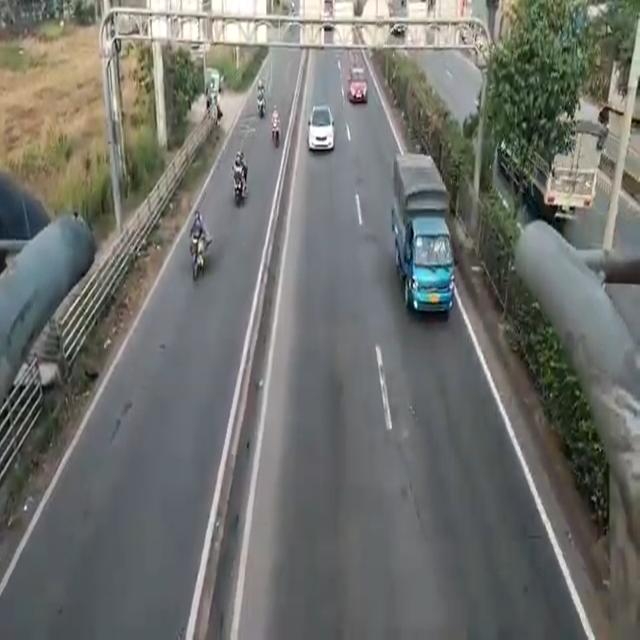car: (307, 108, 341, 160)
motor: (187, 222, 205, 279), (232, 149, 245, 208), (268, 107, 282, 153)
truck: (387, 152, 451, 322), (347, 52, 365, 103)
